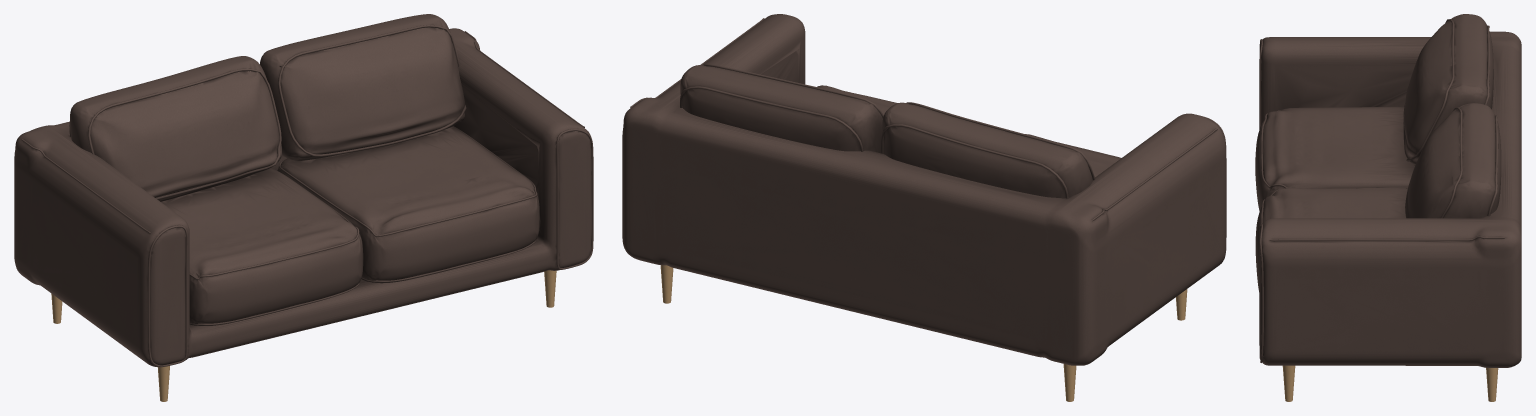
File: cuero-chocolate.gltf
3 renders of one model, left to right at view 1: azimuth 30°, elevation 25°; view 2: azimuth 150°, elevation 25°; view 3: azimuth 270°, elevation 25°, orthographic. The views are drawn at different scales.
Visible parts, largest first — view 1: tela_ar, madera_ar; view 2: tela_ar, madera_ar; view 3: tela_ar, madera_ar.
Part boxes in pixels (box(x1,y1,x2,y2)): tela_ar: box(14, 14, 593, 367); madera_ar: box(51, 270, 556, 401); tela_ar: box(622, 14, 1226, 365); madera_ar: box(660, 265, 1187, 401); tela_ar: box(1255, 14, 1521, 367); madera_ar: box(1282, 365, 1498, 401).
Bounding box in the file's own units: 1.7 × 0.8275 × 0.9121.
Materials: 2 (2 with a texture image).
